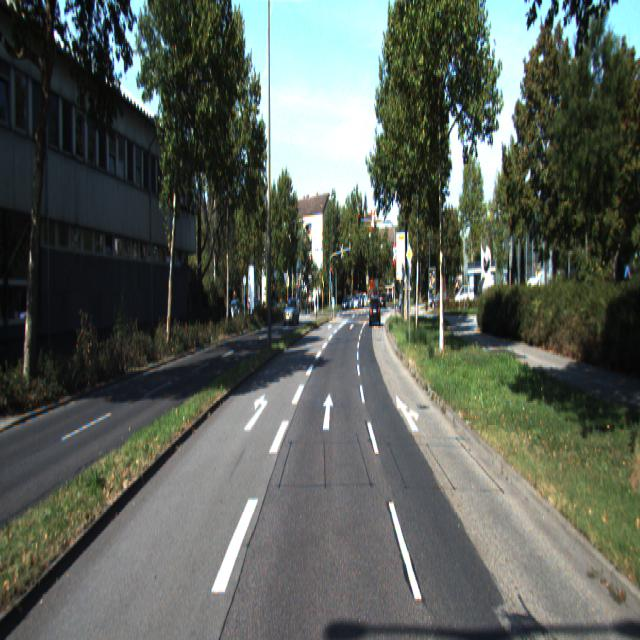Car: (284, 297, 300, 328), (370, 295, 380, 326)
